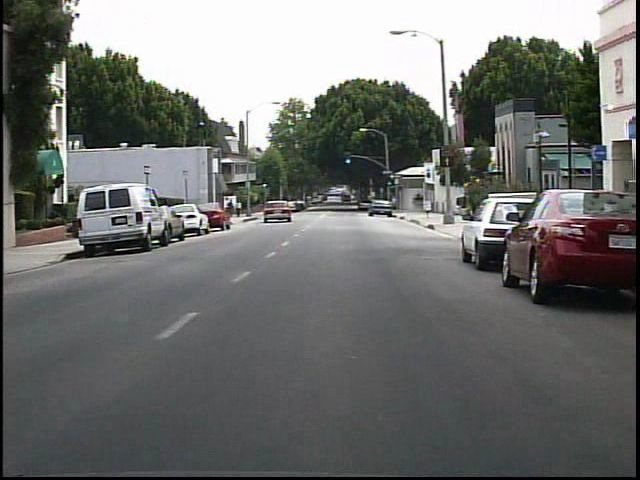person: (224, 197, 237, 219), (235, 198, 247, 221)
